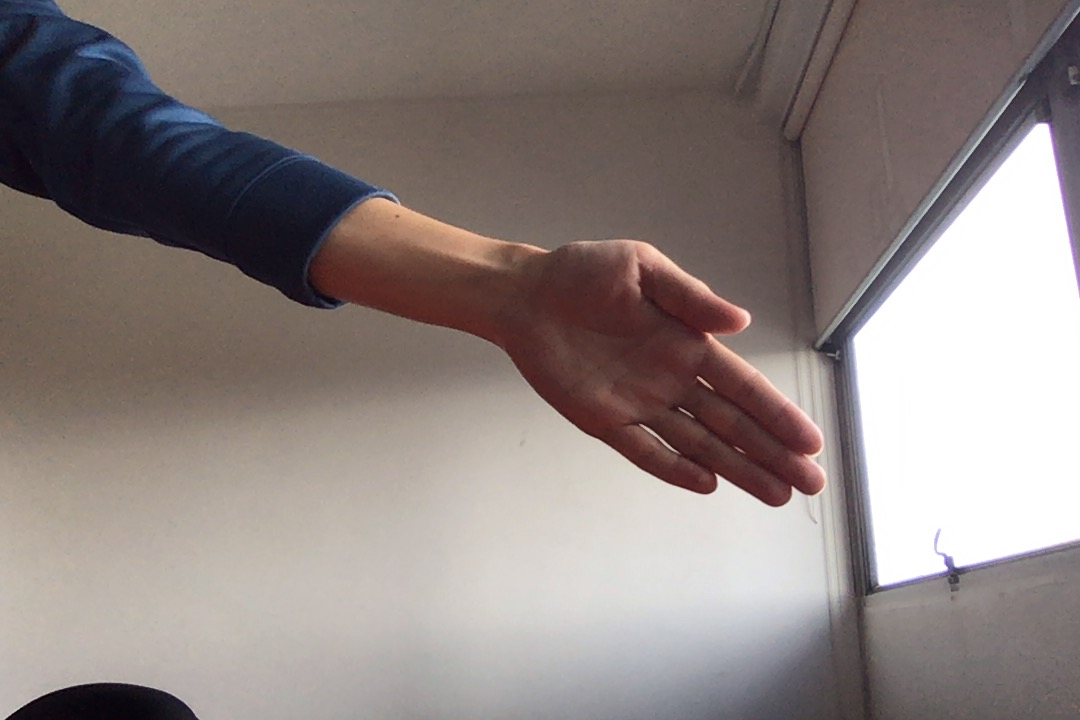palmhand: (513, 233, 830, 516)
